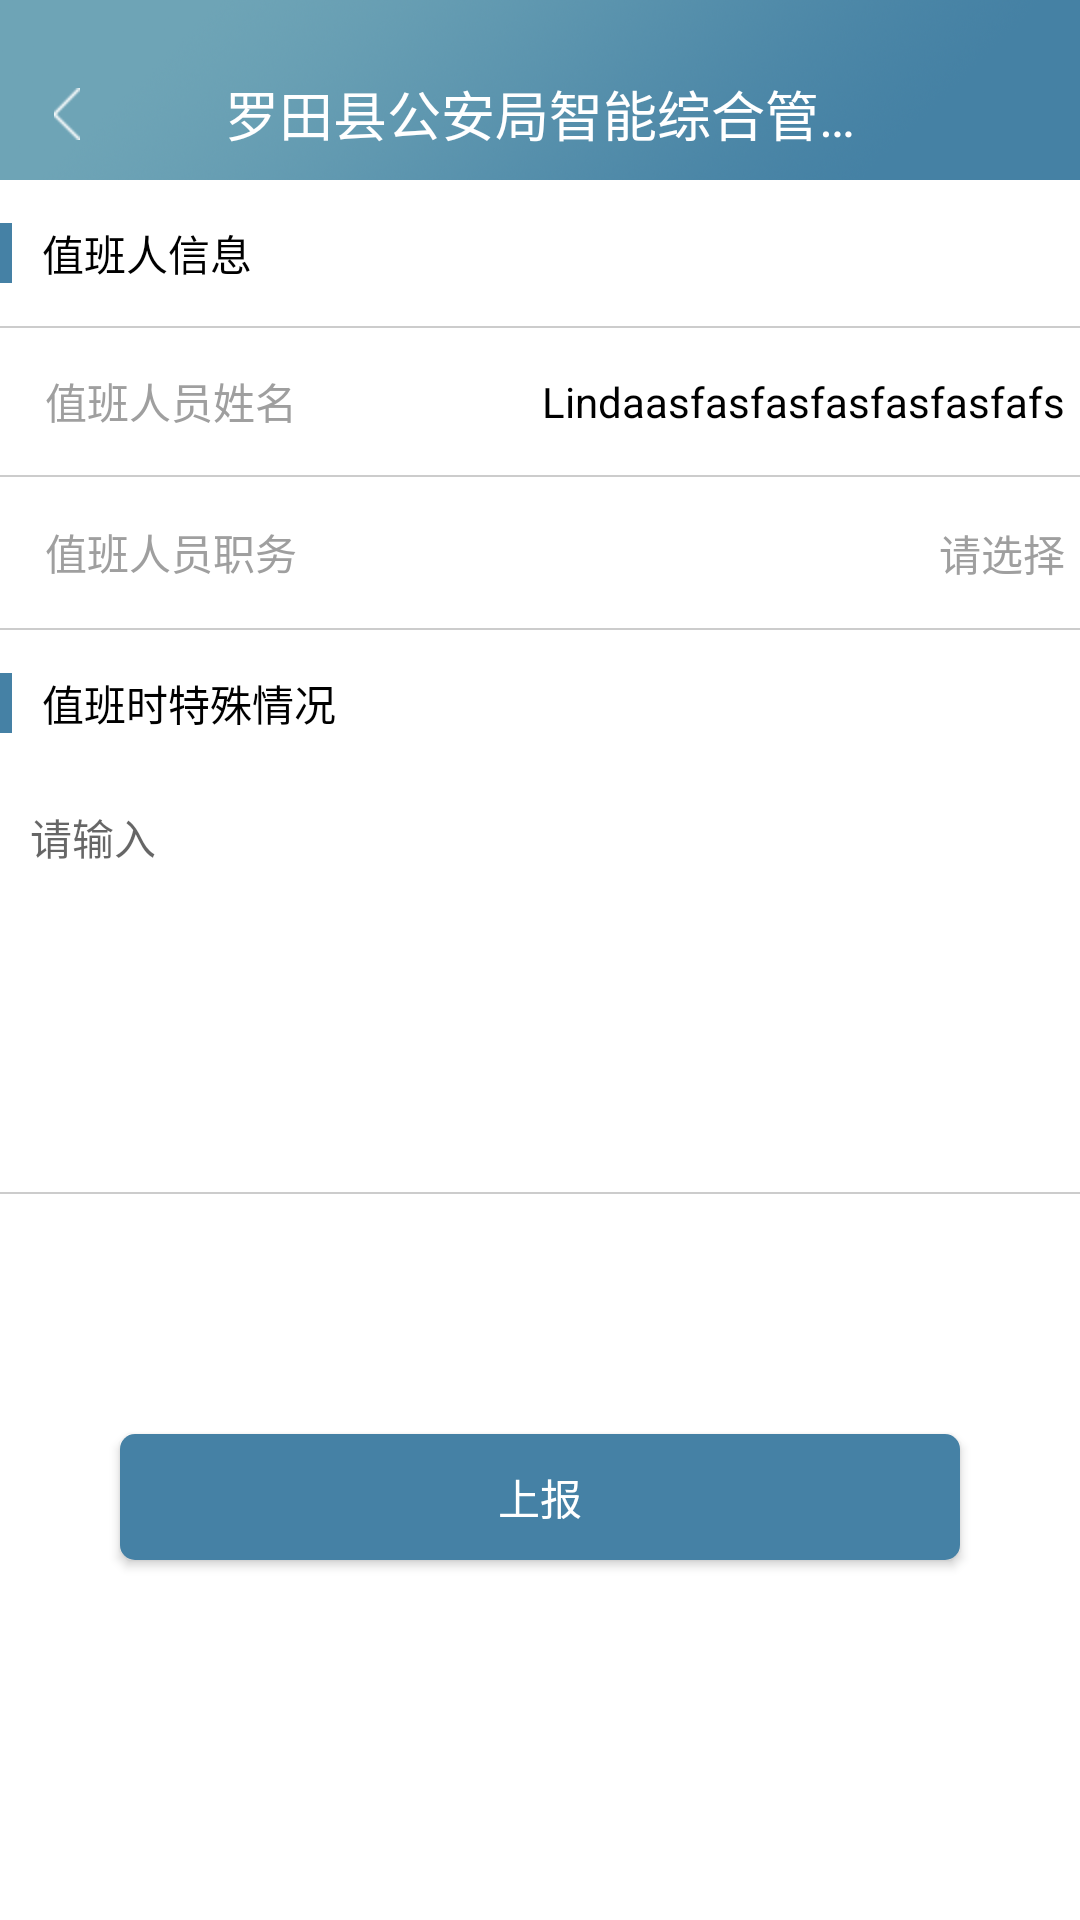

Where to tap for icons on this 1080x1920 app screen, as (x,y):
back: (67,114)
